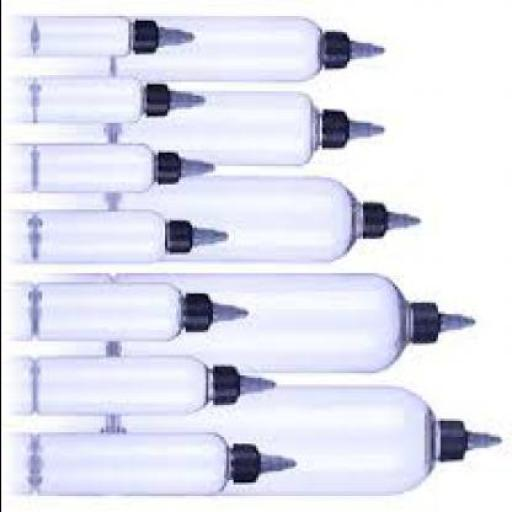plastic: (107, 384, 503, 492), (114, 273, 478, 371), (109, 178, 425, 261), (109, 89, 387, 161), (114, 16, 387, 80), (34, 430, 300, 492), (34, 355, 280, 414), (36, 282, 250, 342), (34, 210, 229, 261), (34, 142, 216, 190), (34, 72, 204, 120), (32, 13, 196, 55), (229, 441, 301, 483), (184, 287, 250, 332), (439, 417, 503, 462), (414, 298, 478, 342), (323, 27, 390, 69), (321, 106, 387, 146), (359, 200, 426, 239), (214, 364, 278, 403), (134, 16, 196, 52), (170, 216, 230, 253), (146, 79, 207, 114), (157, 148, 216, 184)
